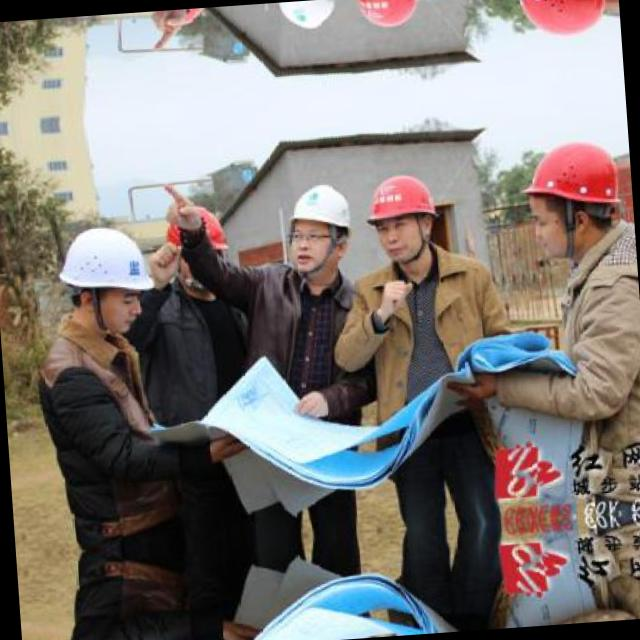helmet: (518, 133, 626, 264), (52, 218, 152, 338), (362, 164, 448, 264), (277, 180, 356, 280), (162, 203, 234, 291), (506, 0, 611, 44), (350, 0, 434, 37), (264, 0, 340, 34), (147, 6, 216, 28)
